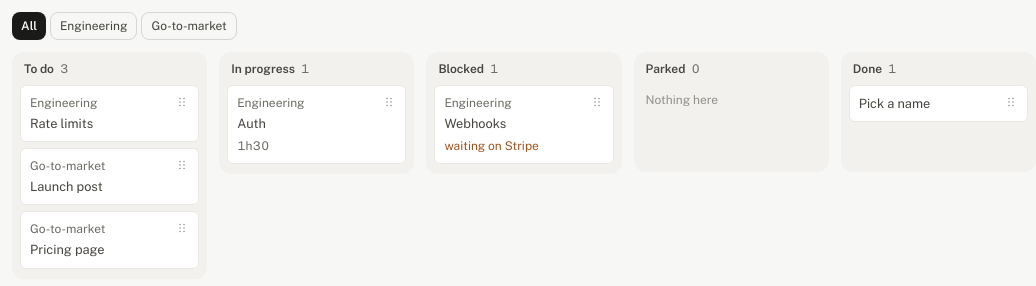
the goal board › filters to one area without changing what a column means
This screenshot has width=1036, height=286.
Click the button "Go-to-market" at point(189, 26), box [142,12,237,40]
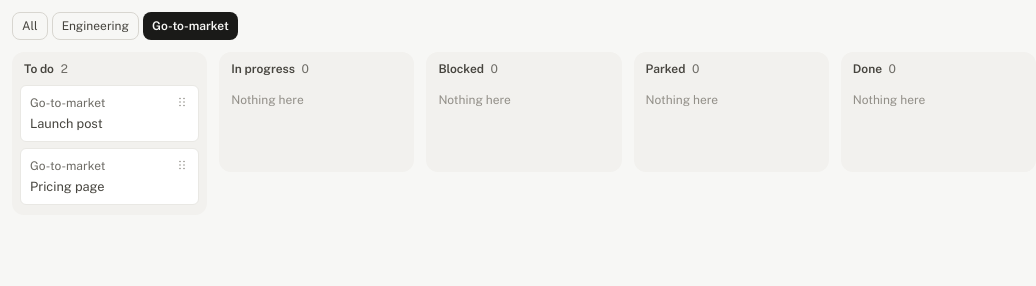
Expected: the text "Launch post" is shown, [30,116,103,131]
Now the button "Auth" is gone
